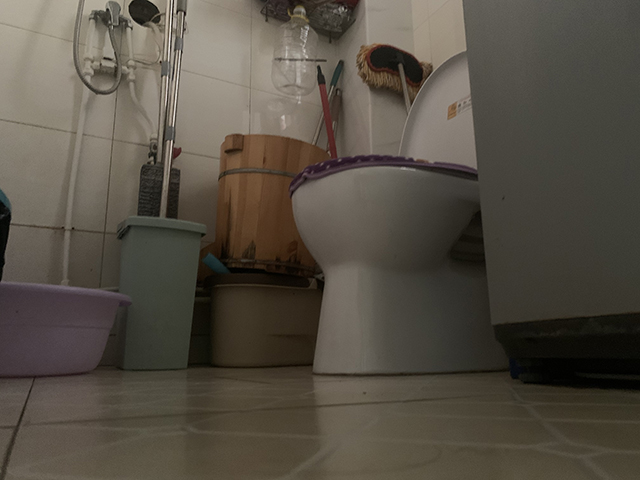closestool: (287, 49, 509, 376)
